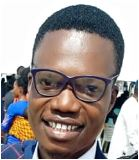without_facemask: (32, 100, 104, 153)
